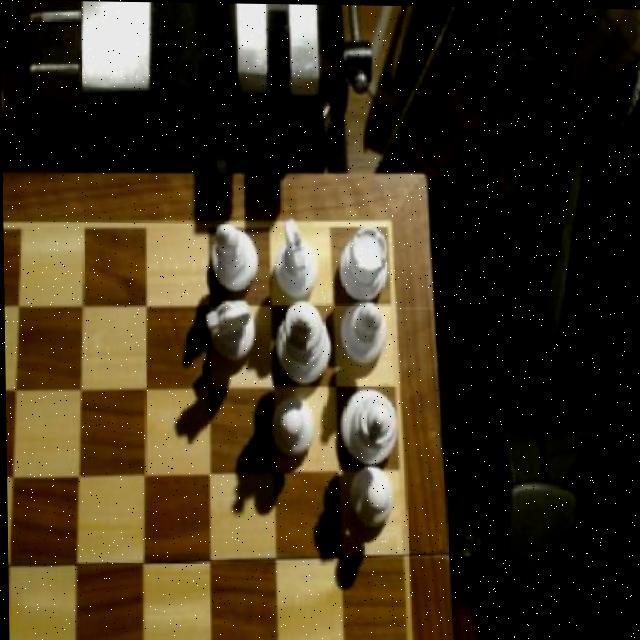black-rook: (210, 219, 262, 293), (340, 301, 387, 369)
white-bishop: (274, 298, 331, 384)
white-king: (203, 296, 260, 368), (273, 215, 320, 301)
white-knight: (271, 394, 321, 461), (351, 466, 395, 534)
white-pawn: (338, 388, 400, 469)
white-queen: (340, 224, 391, 301)
